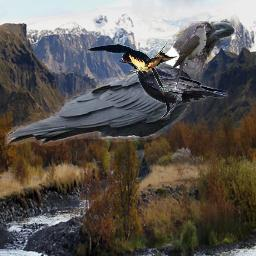Crow: (5, 21, 236, 146), (118, 52, 229, 120)
Cuckoo: (172, 24, 207, 91)
Swallow: (86, 39, 194, 95)
